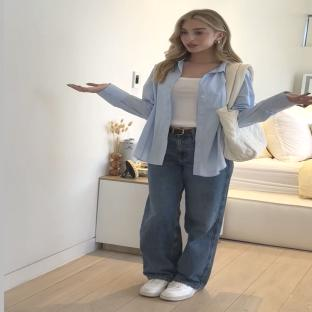Human: (68, 9, 242, 301), (233, 71, 312, 130)
